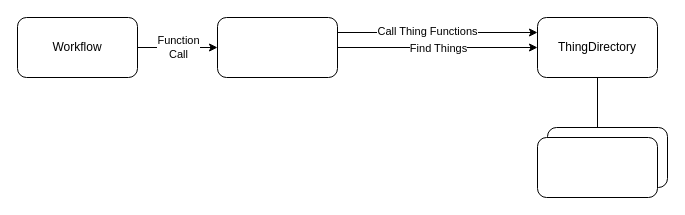
Some shapes in this 685 by 215 pixel diagram are drawn without their labels. Here are the shapes that lost their labels. From the top down, the centre of each, then its label:
(x=277, y=47): SystemNode
(x=597, y=167): ConcreteThings
